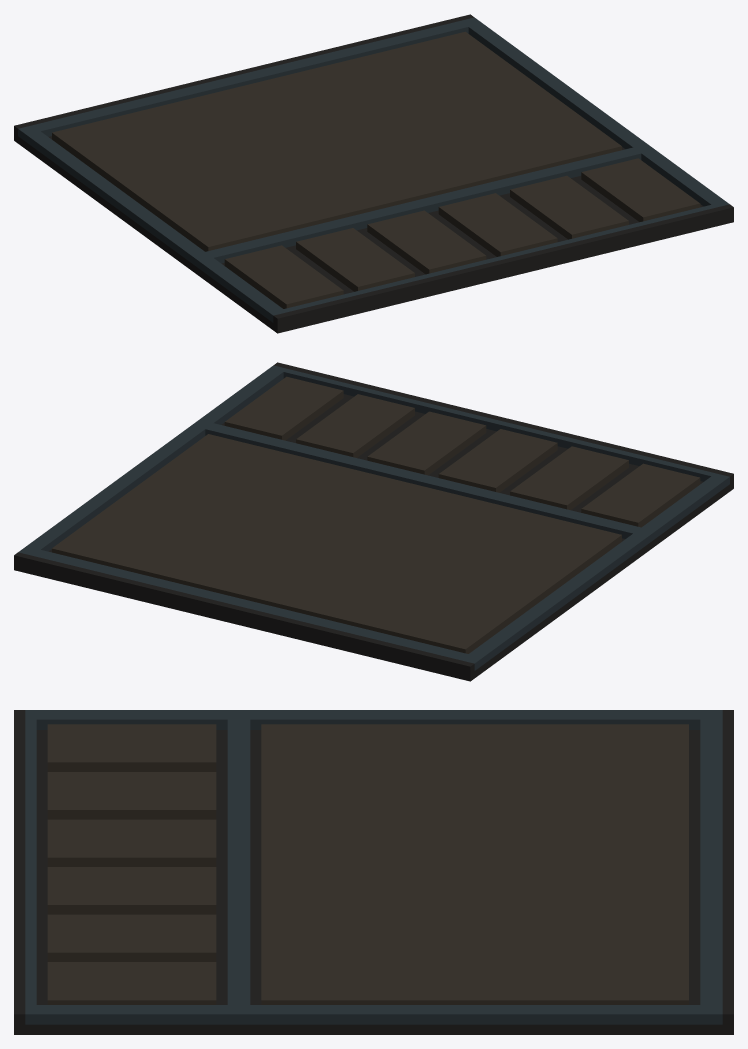
File: e_corridor_gate_floor.obj
3 renders of one model, top to bottom at view 1: azimuth 30°, elevation 25°; view 2: azimuth 150°, elevation 25°; view 3: azimuth 270°, elevation 25°, orthographic. The views are drawn at different scales.
Bounding box in the file's own units: 6.4 × 0.2 × 6.4.
Materials: 1 (1 with a texture image).
